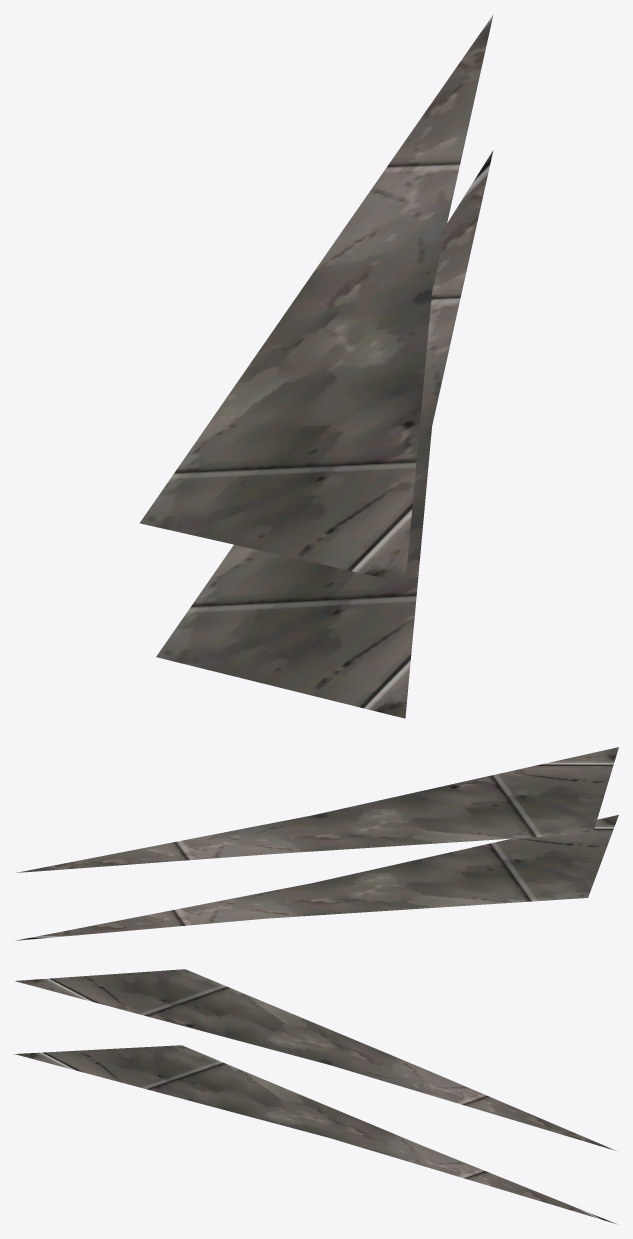
File: CH09_SMAUG_PLAYSURFACE_LAIR43.fbx
3 views of the same model, one above another, from view 1: azimuth 30°, elevation 25°; view 2: azimuth 150°, elevation 25°; view 3: azimuth 270°, elevation 25° (orthographic). The views are drawn at different scales.
Visible parts, largest first — view 1: CH09_SMAUG_PLAYSURFACE_LAIR43; view 2: CH09_SMAUG_PLAYSURFACE_LAIR43; view 3: CH09_SMAUG_PLAYSURFACE_LAIR43.
Boxes of the visible parts, x1,y1,x2,y2 form: CH09_SMAUG_PLAYSURFACE_LAIR43: (140,15,493,718); CH09_SMAUG_PLAYSURFACE_LAIR43: (14,747,618,940); CH09_SMAUG_PLAYSURFACE_LAIR43: (14,969,617,1223).
Size of the model in its own units: 35671 by 7433 by 45841.
1 material, 1 textured.
